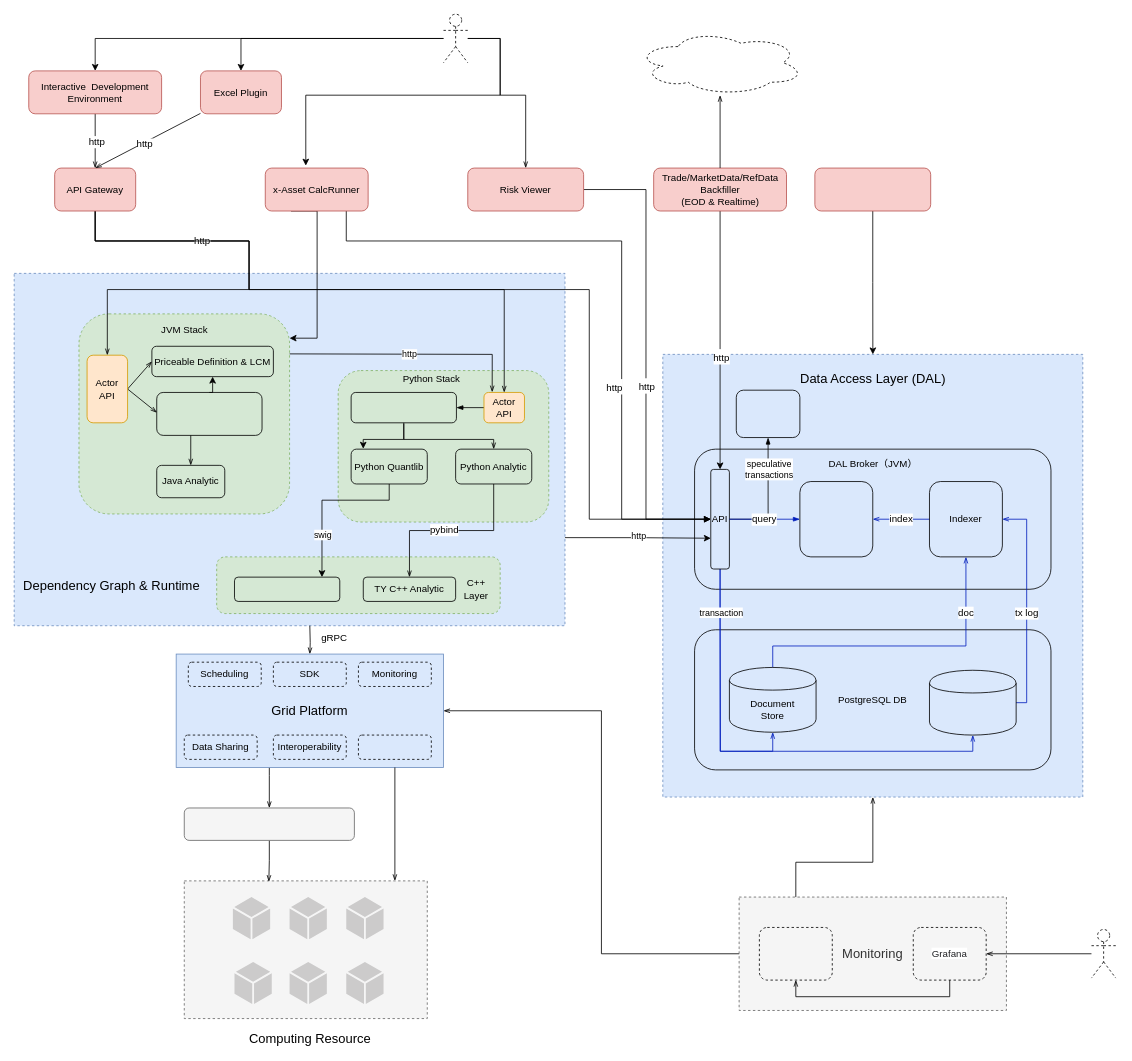
This 1132x1061 diagram has some shape labels left out. The centre of each missing label's shape, as x and y in pixels:
3rd Party Analytics: [287,588]
Container Platform: [268,823]
Data History Viewer: [872,189]
External Systems: [719,62]
IT运维: [1103,953]
Local Index Store (RocksDB): [836,519]
Prometheus: [795,953]
Python Valuation & Risk: [403,407]
Resource Management: [394,746]
Speculative Transaction Cache: [767,413]
Transaction Log: [972,702]
Valuation & Risk: [209,413]
交易量化: [455,38]
